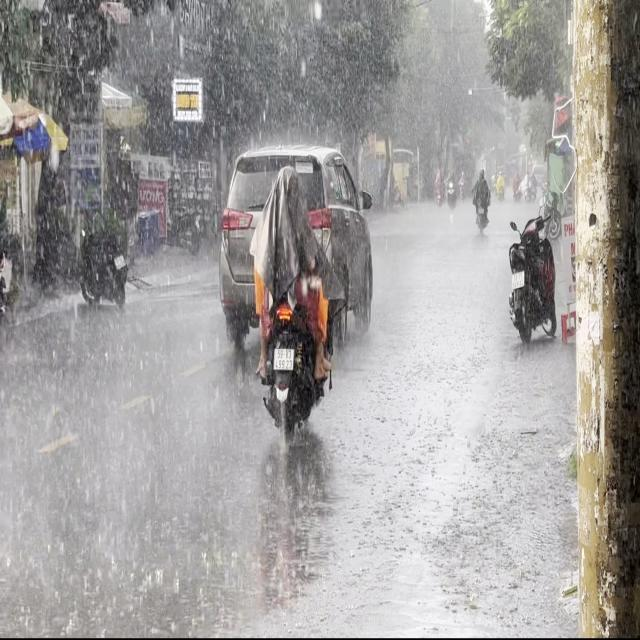licenseplate: (251, 164, 333, 445)
nohelmet: (274, 347, 294, 369), (512, 270, 525, 287)
